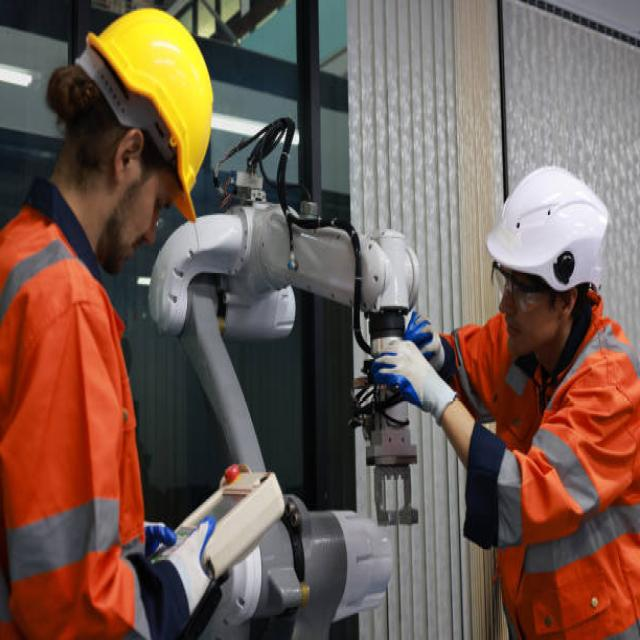Robotic-arm: (150, 190, 424, 640)
